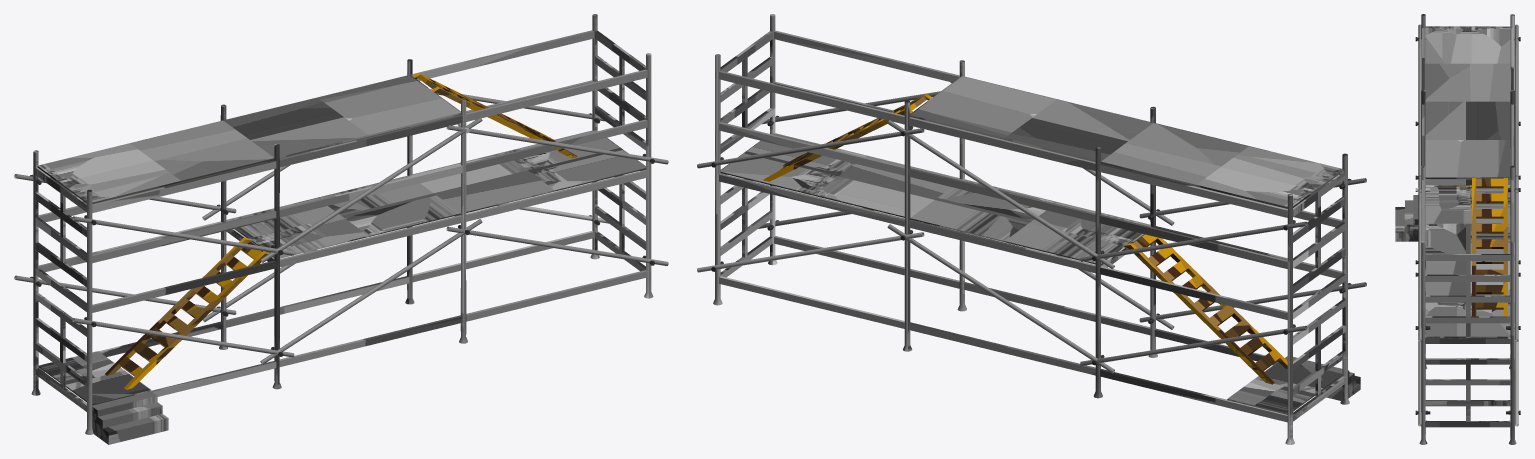
Rendered from Scaffolding Textured.fbx.
3 views of the same model, side by side, from view 1: azimuth 30°, elevation 25°; view 2: azimuth 150°, elevation 25°; view 3: azimuth 270°, elevation 25° (orthographic). The views are drawn at different scales.
Parts seen in each view (by area): view 1: pCylinder67; view 2: pCylinder67; view 3: pCylinder67.
Boxes of the visible parts, x1,y1,x2,y2 form: pCylinder67: (14, 14, 668, 444); pCylinder67: (697, 14, 1366, 444); pCylinder67: (1395, 14, 1520, 444).
Bounding box in the file's own units: 25.71 × 10 × 5.64.
Materials: 6 (4 with a texture image).
